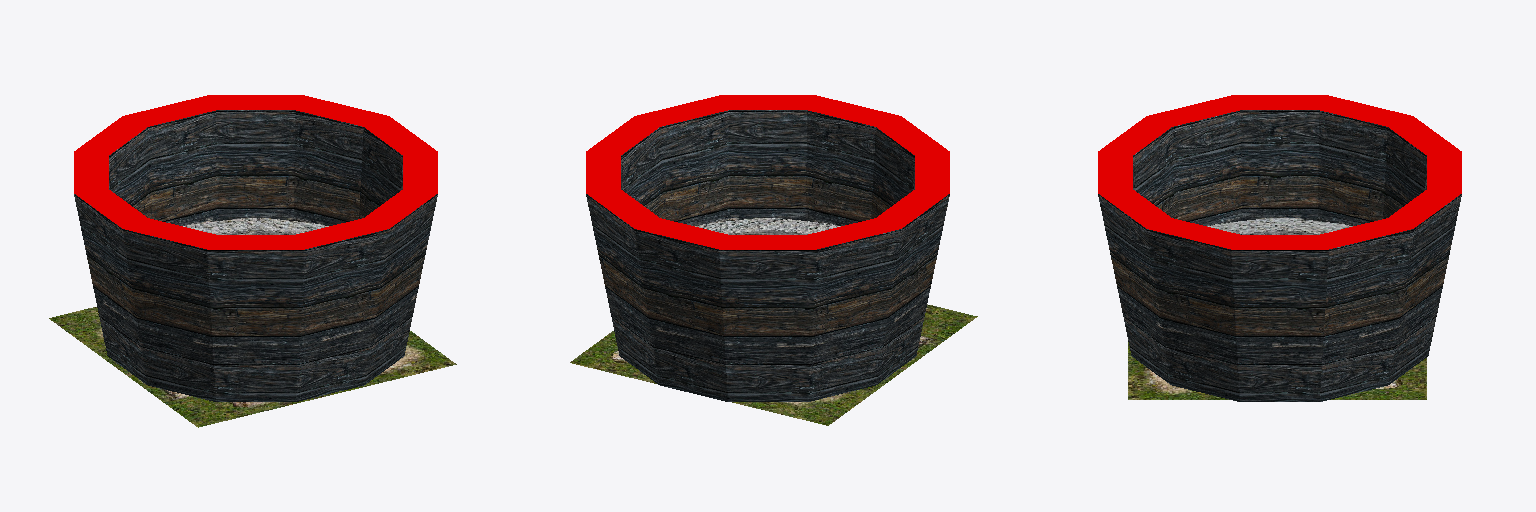
3 renders of one model, left to right at view 1: azimuth 30°, elevation 25°; view 2: azimuth 150°, elevation 25°; view 3: azimuth 270°, elevation 25°, orthographic.
Bounding box in the file's own units: 2.44 × 1.23 × 2.44.
4 materials, 3 textured.